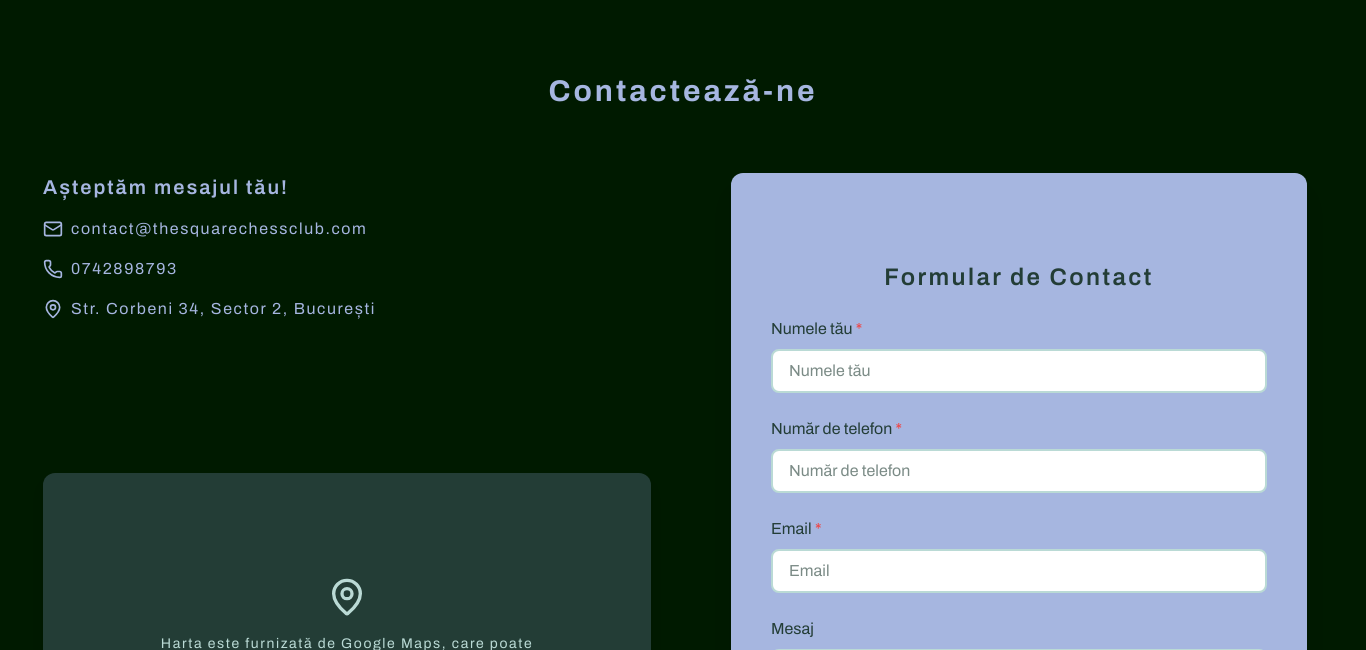
ContactSection › shows error message when API returns failure
Type "Ion" into the field labelled "Numele tău *". click: {"x": 1019, "y": 371}
box: 771,349 -> 1267,393
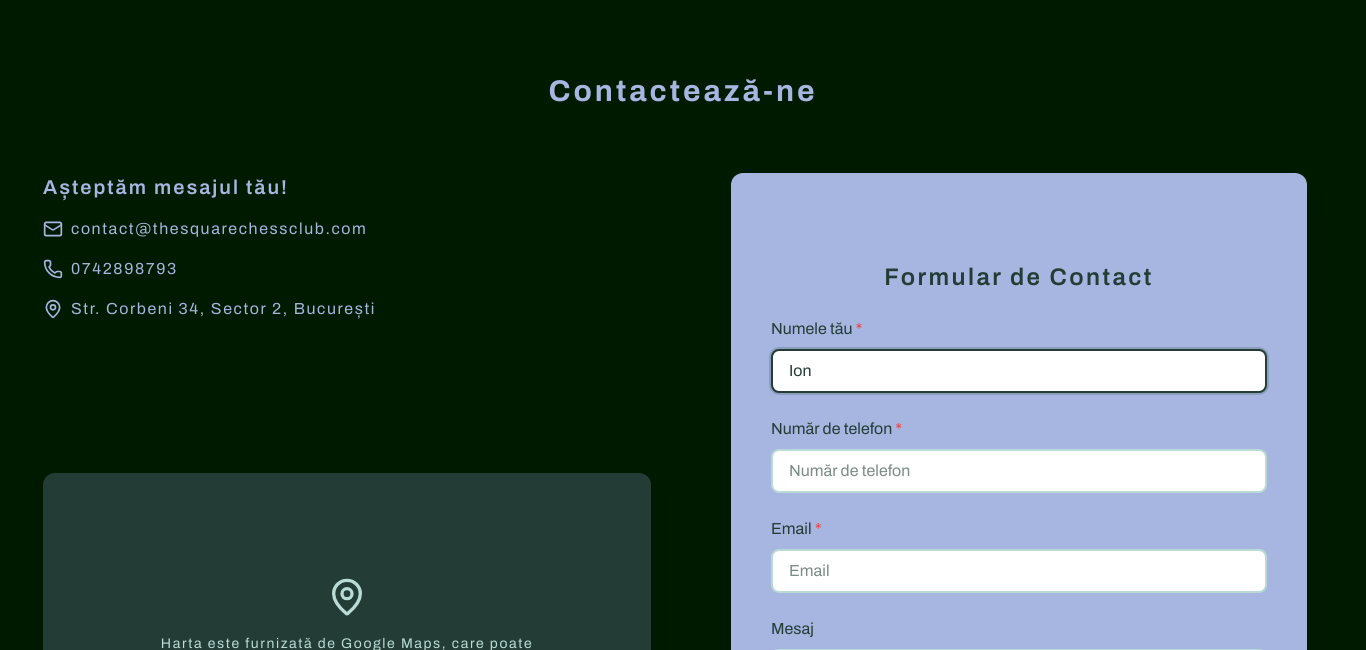
Type "0741234567" into the field labelled "Număr de telefon *". click: {"x": 1019, "y": 471}
box: 771,449 -> 1267,493
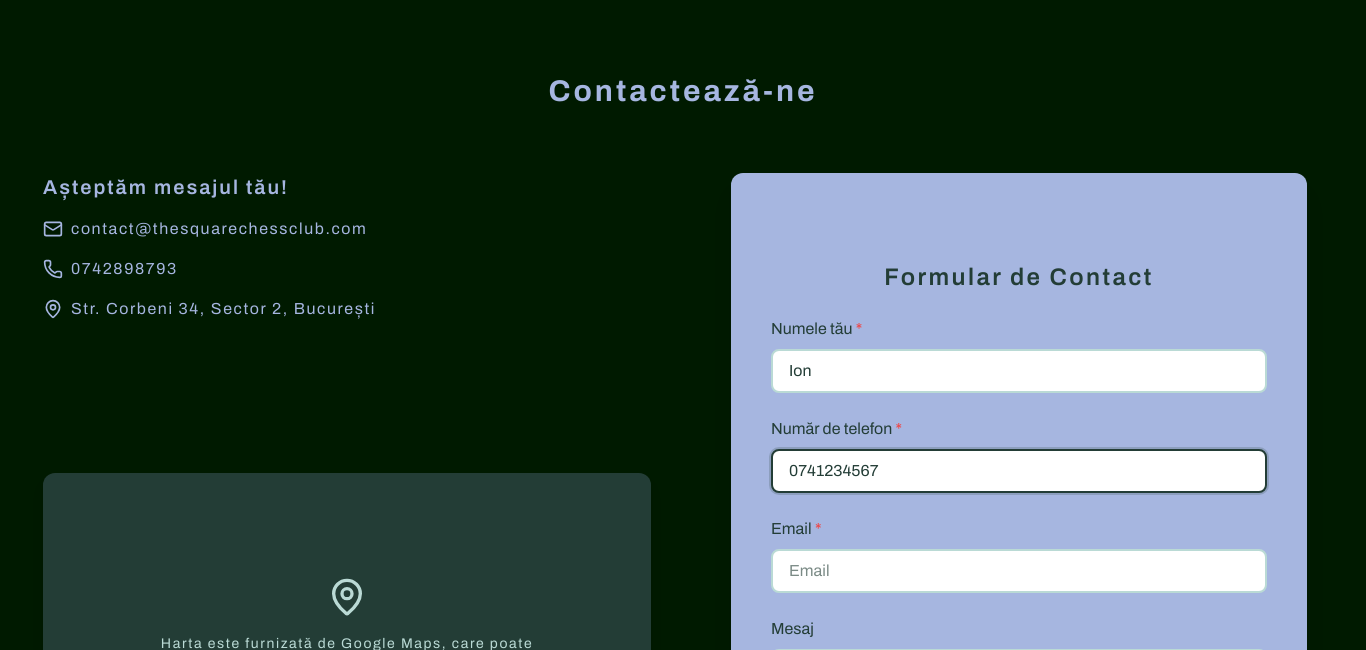
Type "ion@example.com" into the field labelled "Email *". click: {"x": 1019, "y": 571}
box: 771,549 -> 1267,593
(page scrolled)
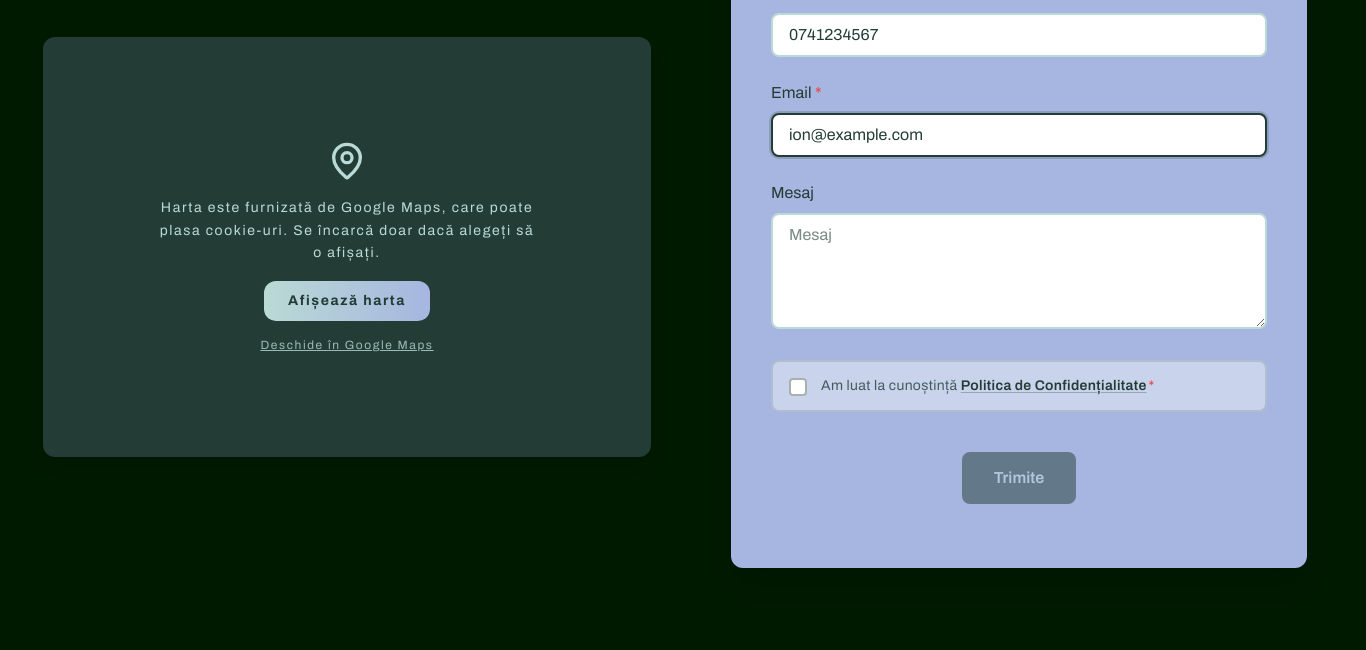
Click the checkbox labelled "Am luat la cunoștință Politica de Confidențialitate *". click: {"x": 1019, "y": 386}
box: 771,360 -> 1267,412
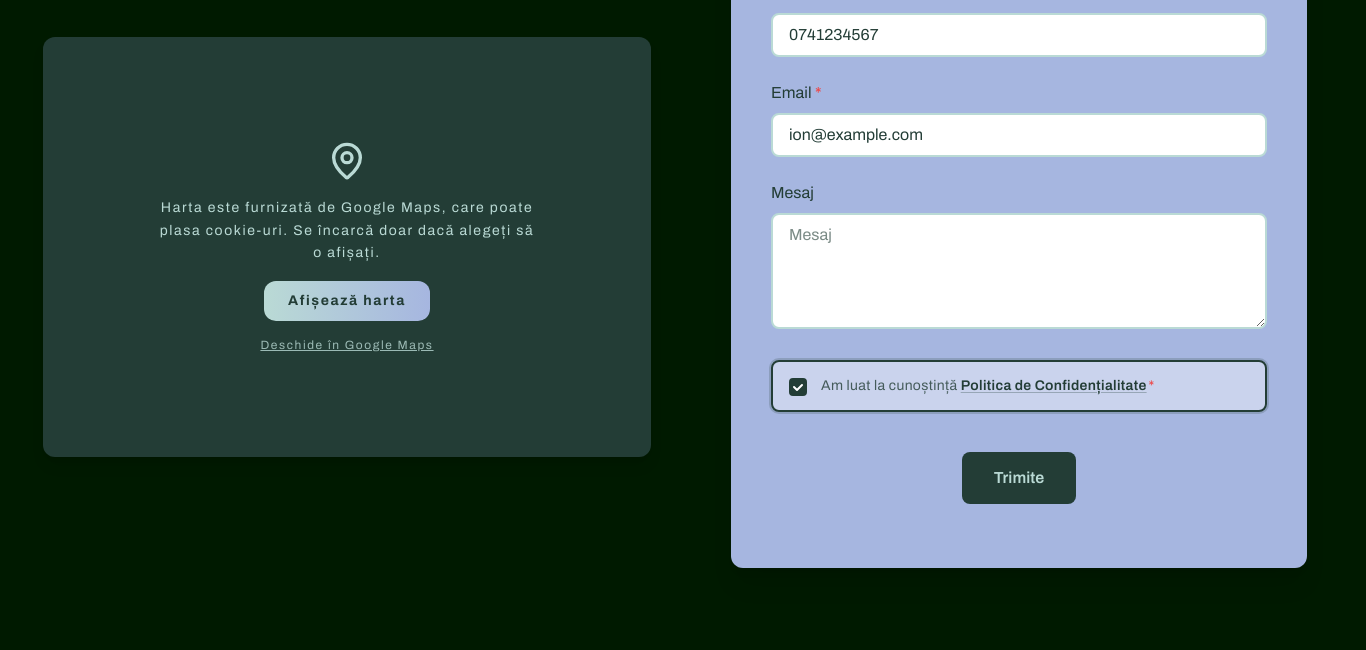
Click the button "Trimite". click: {"x": 1019, "y": 478}
box: 962,452 -> 1076,504
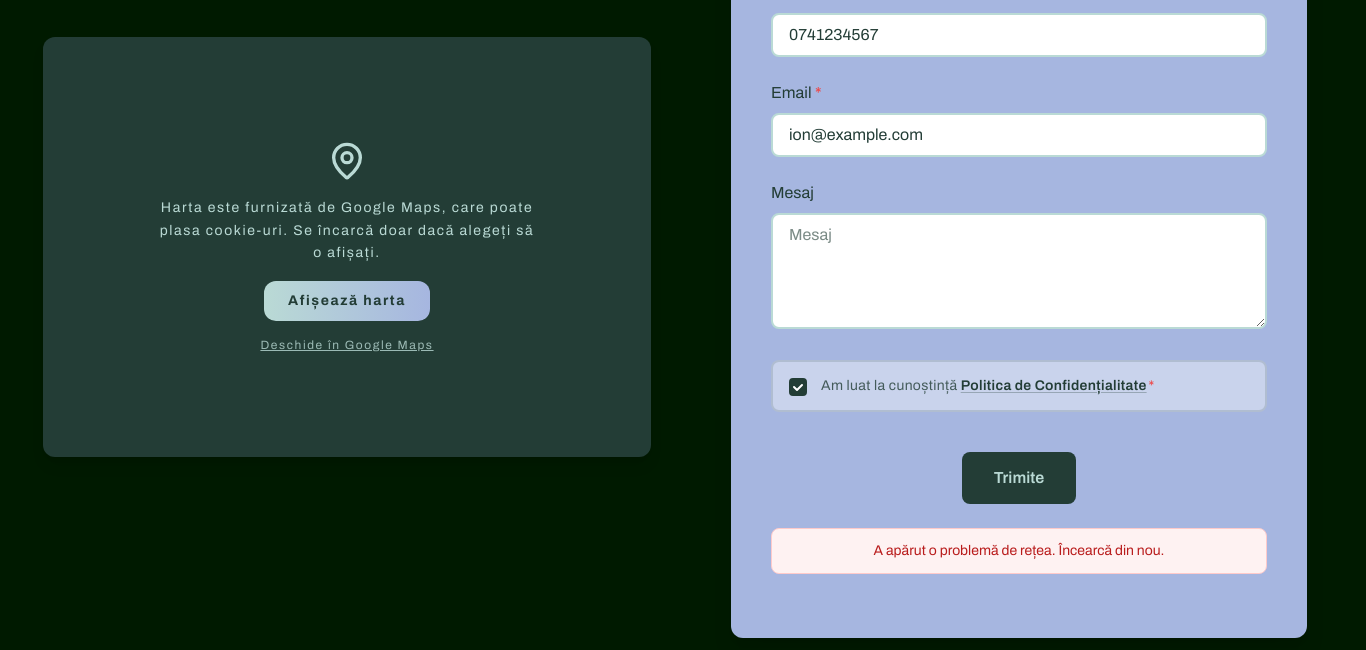
Expected: the message shows "problemă", 874,543 -> 1164,558
